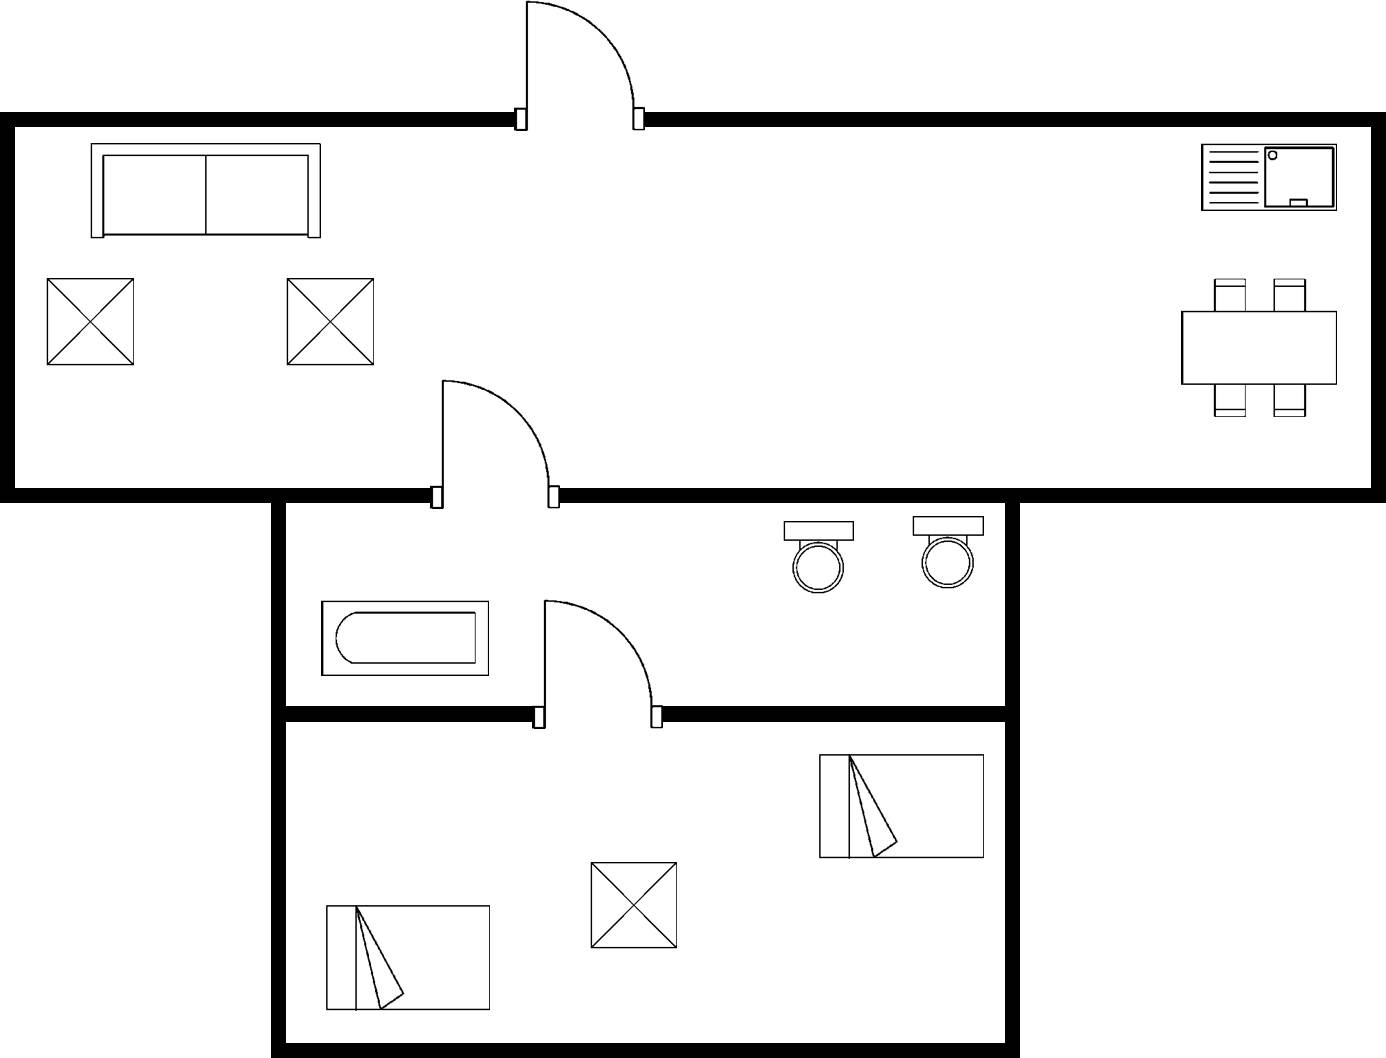bed: (319, 898, 497, 1018), (813, 748, 988, 865)
coffee_table: (279, 271, 382, 375), (41, 272, 139, 373), (584, 857, 683, 954)
dining_table: (1176, 271, 1341, 422)
large_sink: (905, 512, 988, 595), (779, 516, 859, 598)
large_sofa: (83, 135, 327, 243)
sink: (1195, 137, 1342, 217)
tub: (315, 595, 495, 683)
